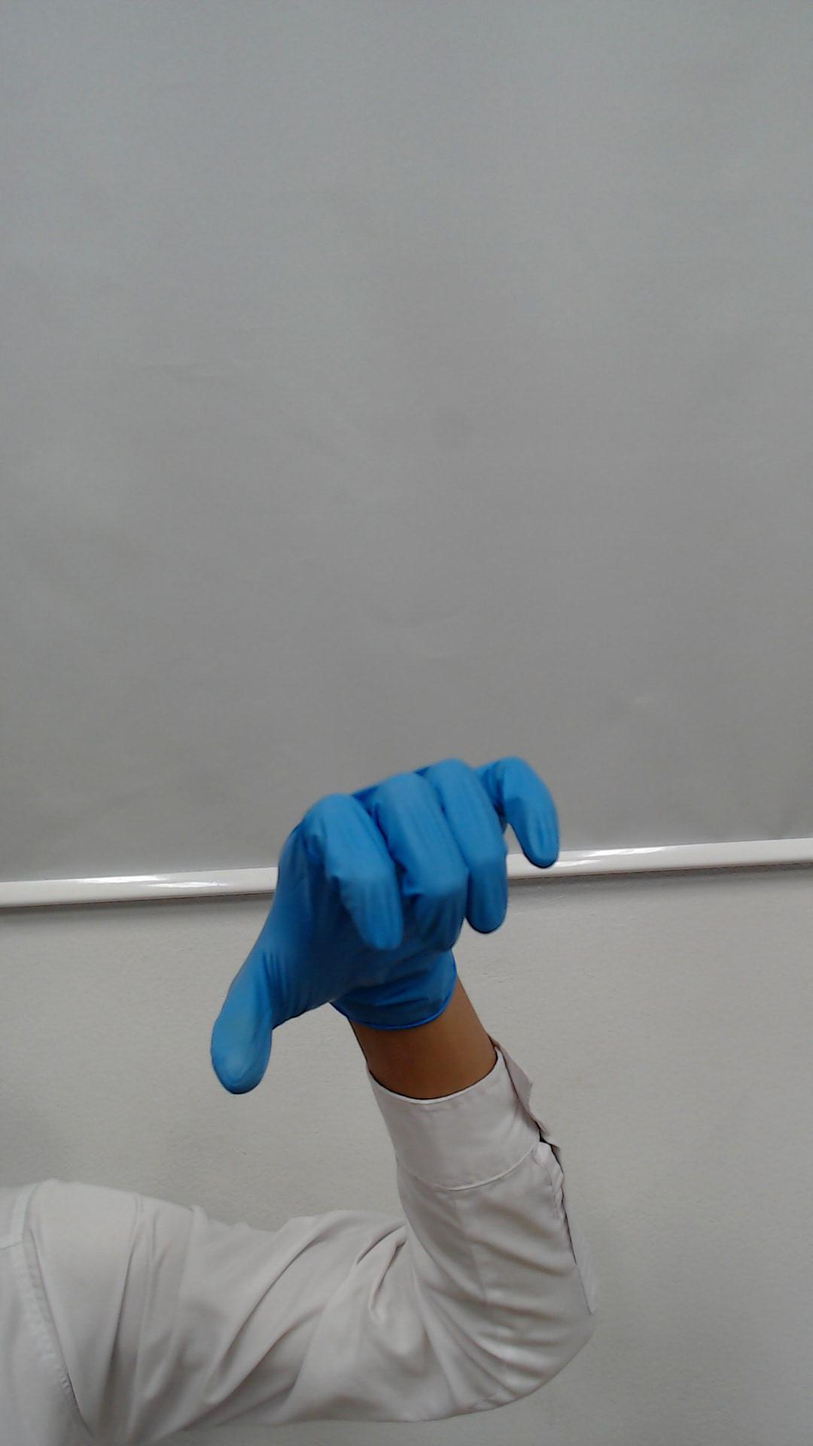gloves: (174, 681, 573, 1113)
